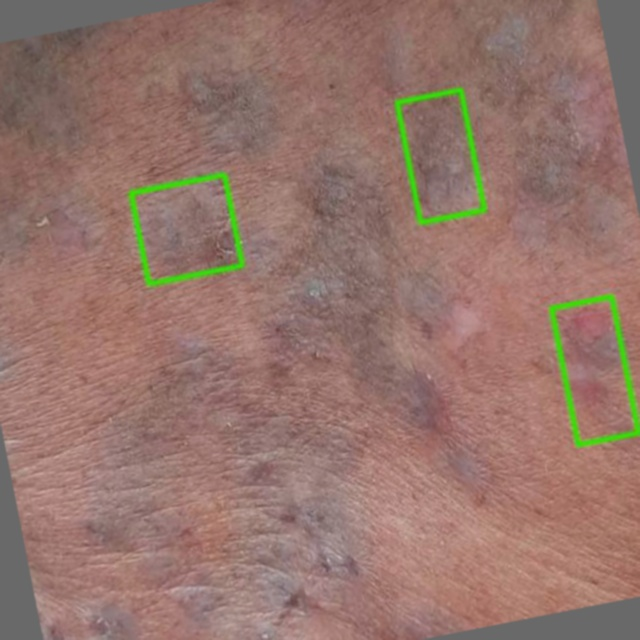Contact Dermatitis: (551, 296, 638, 444), (131, 174, 242, 283), (397, 89, 484, 222)
